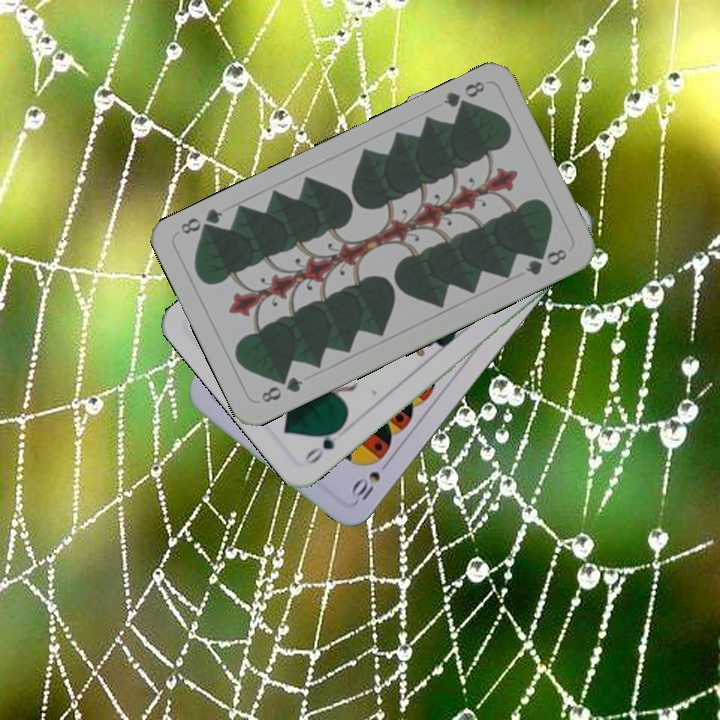G8: (439, 76, 488, 115), (257, 372, 306, 406)
GO: (301, 421, 346, 467)
S10: (347, 467, 383, 503)
